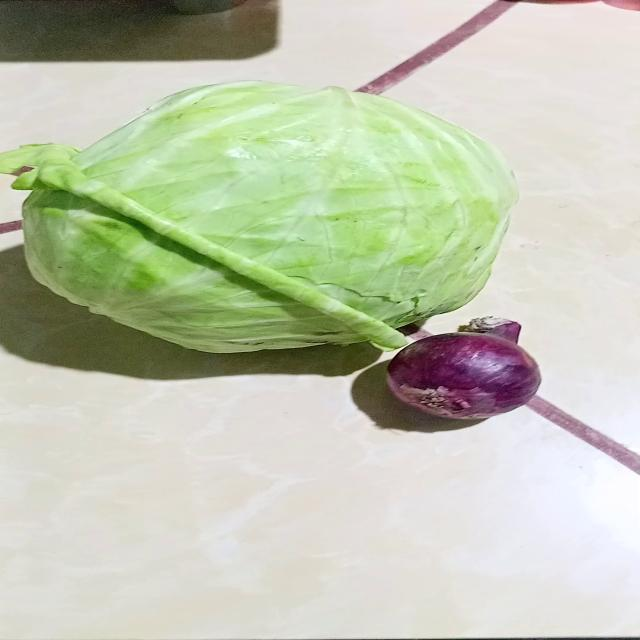cabbage: (0, 83, 518, 359)
onion: (383, 320, 544, 426)
